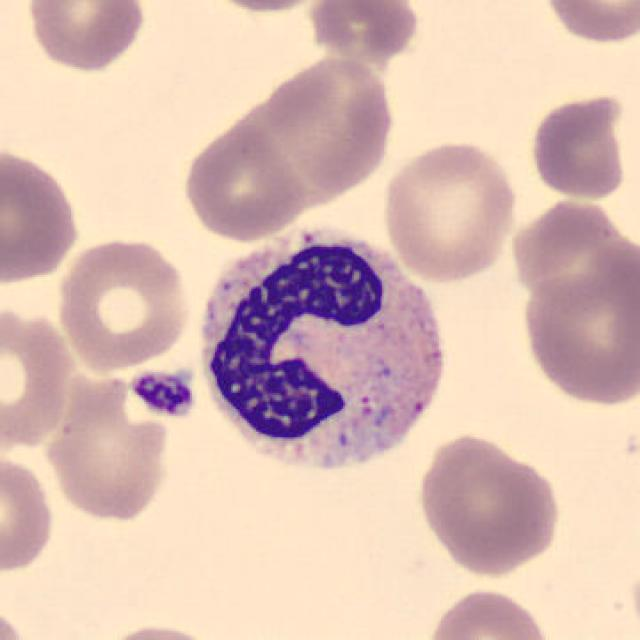Neutrophil: (186, 217, 458, 494)
Platelets: (126, 367, 199, 421)
RBC: (412, 430, 566, 580), (36, 363, 176, 527), (379, 136, 521, 284), (52, 233, 194, 374), (518, 245, 638, 409), (267, 51, 398, 196), (180, 120, 308, 243), (505, 194, 635, 310), (524, 90, 633, 203), (0, 141, 84, 287), (0, 301, 76, 451), (21, 0, 151, 76), (304, 0, 423, 69), (422, 585, 558, 640), (0, 452, 57, 576), (537, 0, 638, 48), (92, 619, 224, 640), (180, 0, 352, 16), (0, 603, 28, 640)
